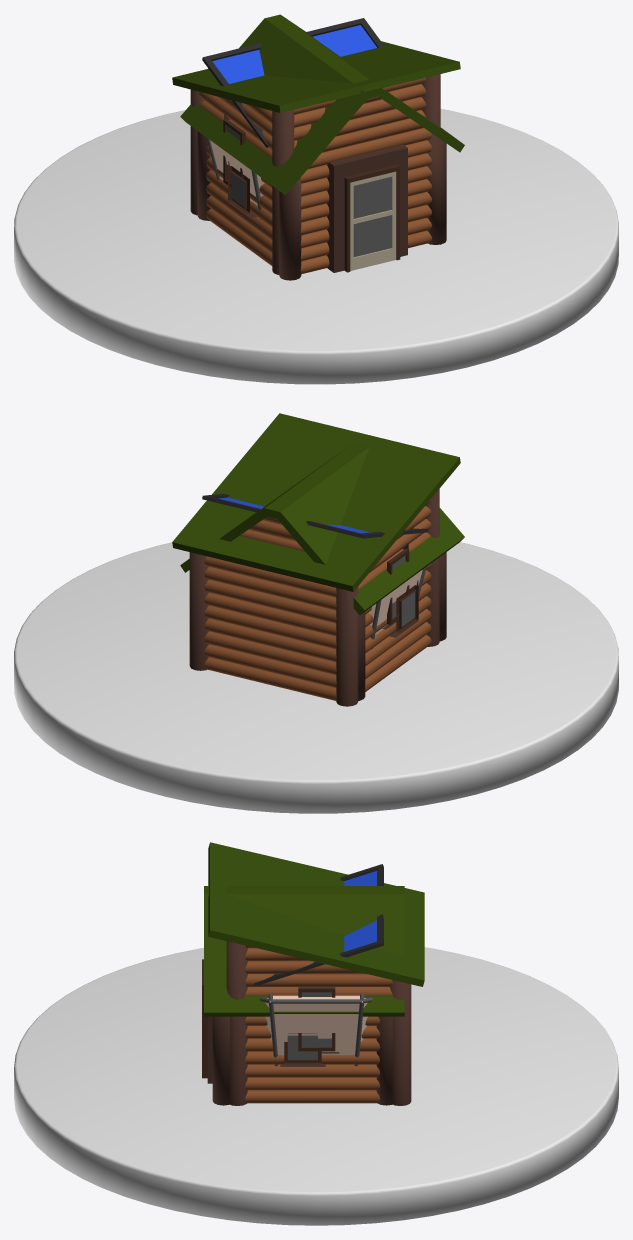
File: objects_platform.glb
The picture shows the model from 3 angles, top to bottom: view 1: azimuth 30°, elevation 25°; view 2: azimuth 150°, elevation 25°; view 3: azimuth 270°, elevation 25°; orthographic projection.
Parts seen in each view (by area): view 1: Platform, Cabin01, Cabin02, TinyBox, JUPE; view 2: Platform, Cabin02, Cabin01, TinyBox, JUPE; view 3: Platform, Cabin02, Cabin01, JUPE, TinyBox.
Boxes of the visible parts, x1,y1,x2,y2 form: Platform: (14, 109, 618, 384); Cabin01: (180, 14, 464, 280); Cabin02: (172, 41, 460, 274); TinyBox: (202, 18, 384, 147); JUPE: (206, 137, 264, 219); Platform: (14, 542, 618, 813); Cabin02: (172, 413, 460, 706); Cabin01: (180, 443, 464, 700); TinyBox: (202, 493, 428, 538); JUPE: (368, 566, 426, 649); Platform: (14, 947, 618, 1225); Cabin02: (208, 842, 424, 1105); Cabin01: (202, 886, 404, 1105); JUPE: (260, 993, 372, 1066); TinyBox: (254, 864, 383, 986).
Size of the model in its own units: 7.95 by 3.07 by 7.95.
